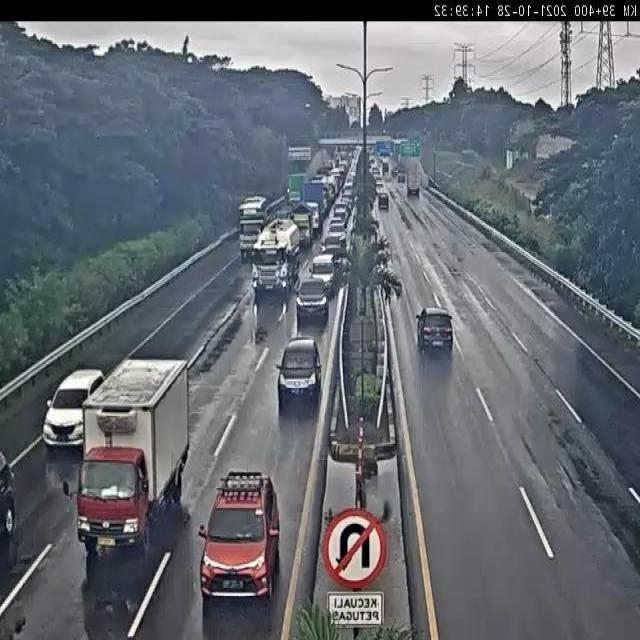Bus: (236, 193, 270, 220)
Car: (198, 469, 280, 609), (42, 368, 106, 451), (275, 333, 323, 410), (416, 307, 454, 356), (293, 275, 330, 325), (323, 235, 344, 263), (327, 222, 347, 244), (378, 191, 389, 210)
Truck: (61, 354, 190, 558), (251, 217, 301, 299), (238, 212, 270, 262), (302, 180, 326, 232), (290, 204, 316, 246), (288, 173, 306, 206), (406, 168, 421, 198), (382, 160, 389, 174), (397, 171, 405, 182), (383, 171, 391, 182)
Van: (308, 252, 337, 294), (375, 180, 384, 194)
